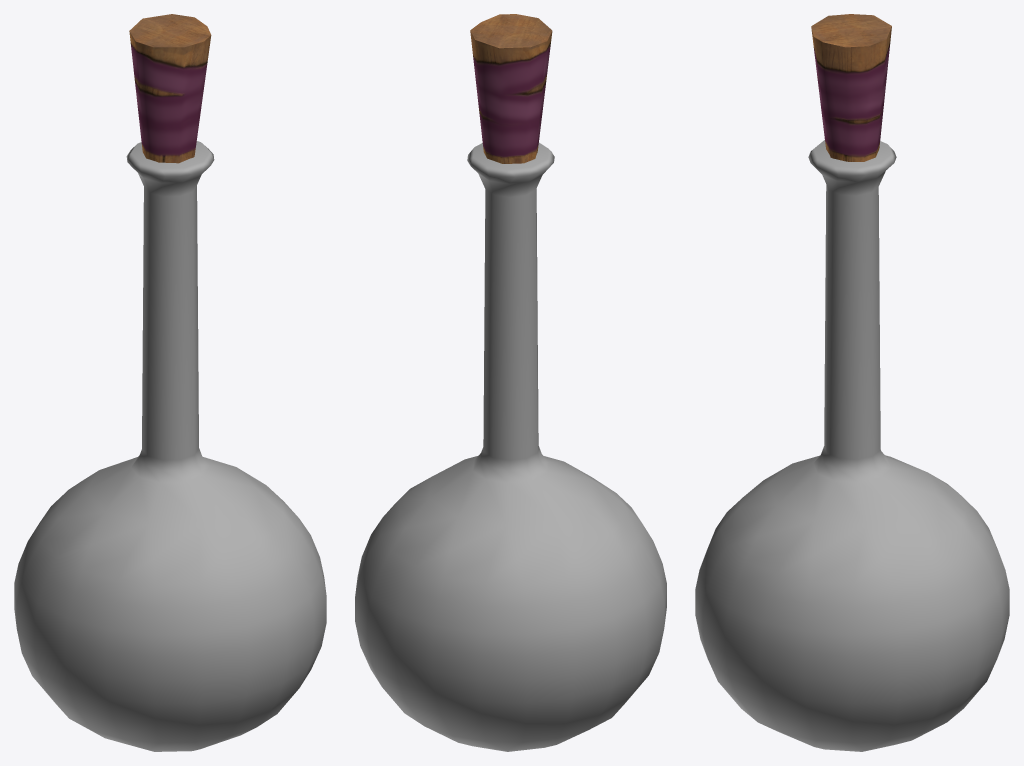
File: SM_Potion_Props_Bottle_Huge_02_B.fbx
The picture shows the model from 3 angles, left to right: view 1: azimuth 30°, elevation 25°; view 2: azimuth 150°, elevation 25°; view 3: azimuth 270°, elevation 25°; orthographic projection.
Parts seen in each view (by area): view 1: SM_Potion_Props_Bottle_Huge_02_B_LOD0; view 2: SM_Potion_Props_Bottle_Huge_02_B_LOD0; view 3: SM_Potion_Props_Bottle_Huge_02_B_LOD0.
Part boxes in pixels (x1,y1,x2,y2): SM_Potion_Props_Bottle_Huge_02_B_LOD0: (14,14,326,751); SM_Potion_Props_Bottle_Huge_02_B_LOD0: (355,14,666,751); SM_Potion_Props_Bottle_Huge_02_B_LOD0: (695,14,1009,751).
Size of what is drawn, in the model's own units: 40.1 by 98.82 by 40.1.
